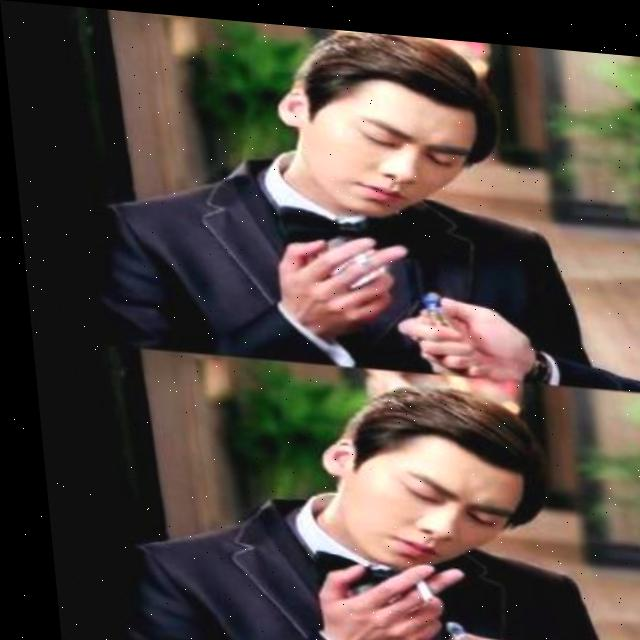cigarette: (402, 573, 428, 599)
